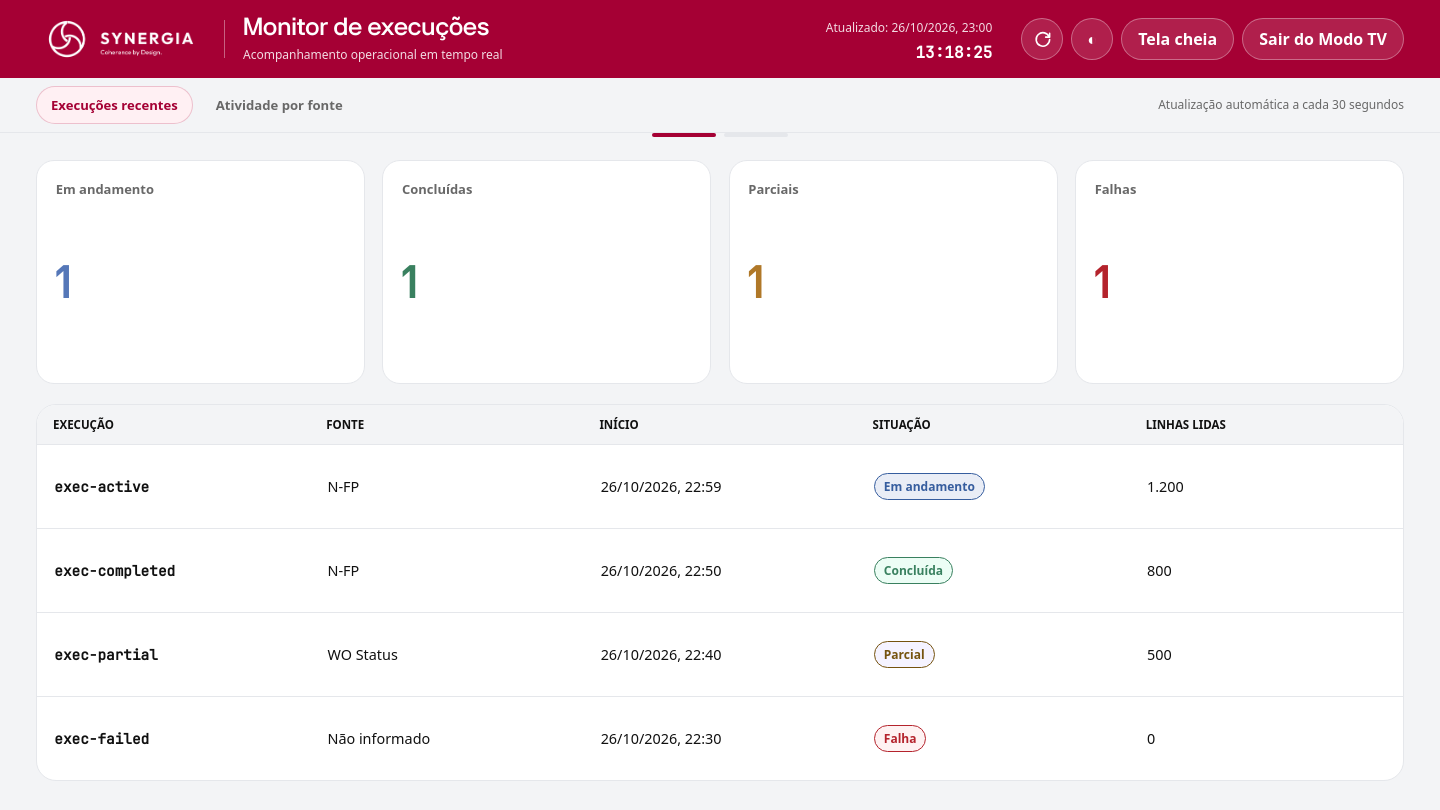
TvMonitorComponent › removes the previous snapshot when a refresh is forbidden
Step 1. Click the button with class "tv-refresh" → (1042,39), box [1021,18,1063,60]
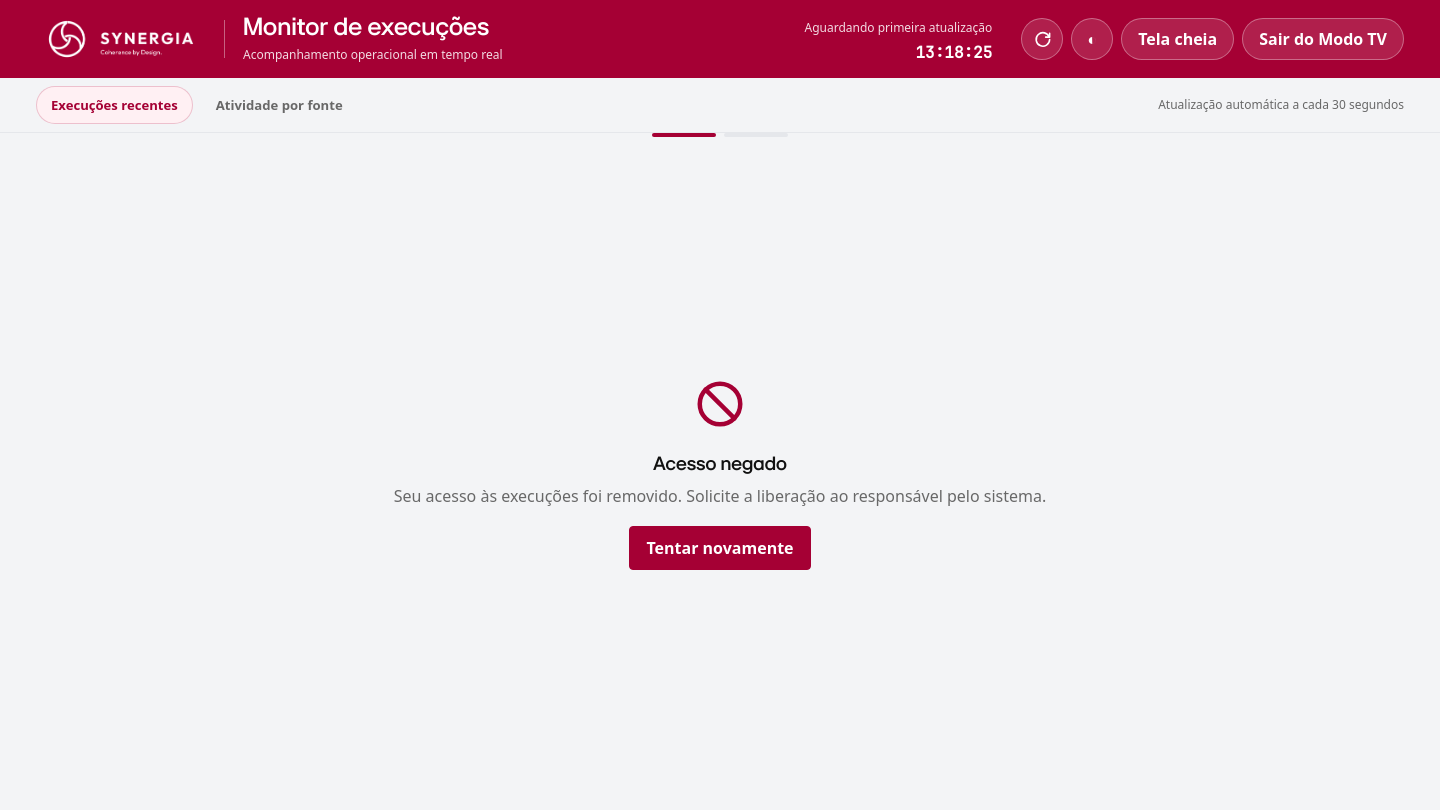
Result: the text "exec-active" is gone
Result: the message shows "Acesso negado" at [653,454,787,474]
